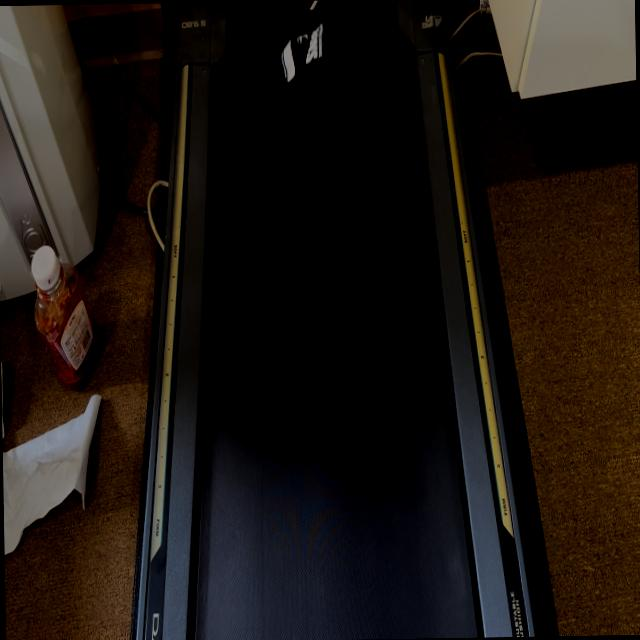Trash: (275, 0, 329, 98)
